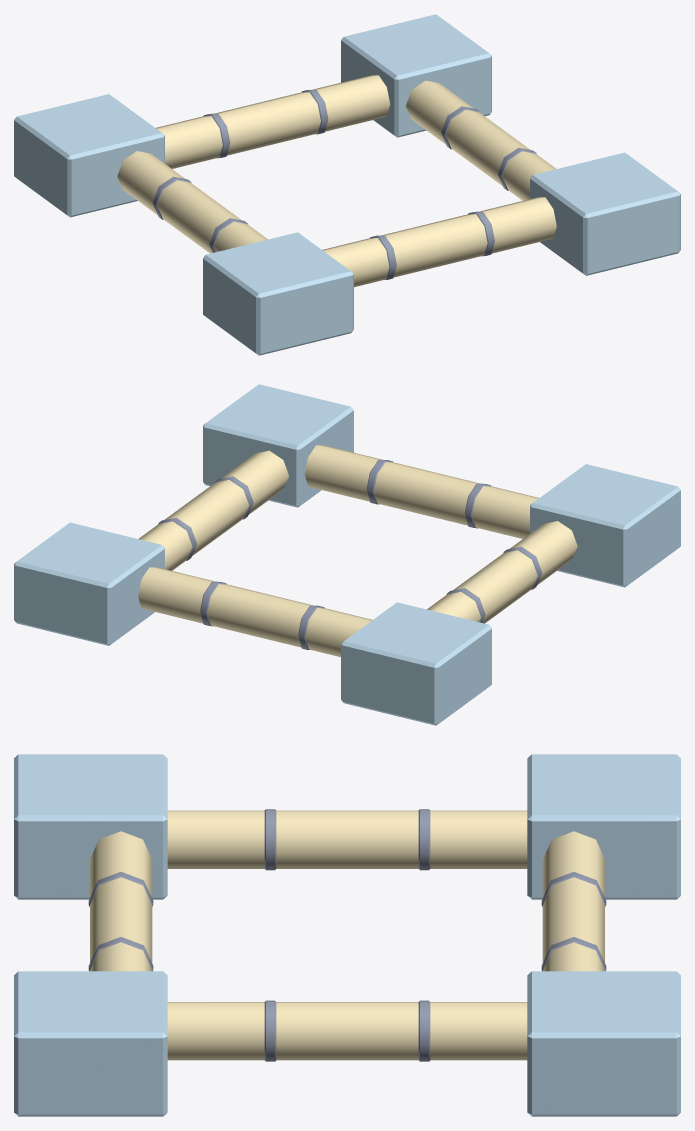
The model's file is R4C_ROD_FRAME_LOD1.glb.
The picture shows the model from 3 angles, top to bottom: view 1: azimuth 30°, elevation 25°; view 2: azimuth 150°, elevation 25°; view 3: azimuth 270°, elevation 25°; orthographic projection. The views are drawn at different scales.
Visible parts, largest first — view 1: R4C_ROD_FRAME_LOD1; view 2: R4C_ROD_FRAME_LOD1; view 3: R4C_ROD_FRAME_LOD1.
Boxes of the visible parts, x1=… form: R4C_ROD_FRAME_LOD1: x1=14, y1=14, x2=680, y2=355; R4C_ROD_FRAME_LOD1: x1=14, y1=384, x2=680, y2=725; R4C_ROD_FRAME_LOD1: x1=14, y1=754, x2=680, y2=1116.
Bounding box in the file's own units: 1.62 × 0.226 × 1.62.
